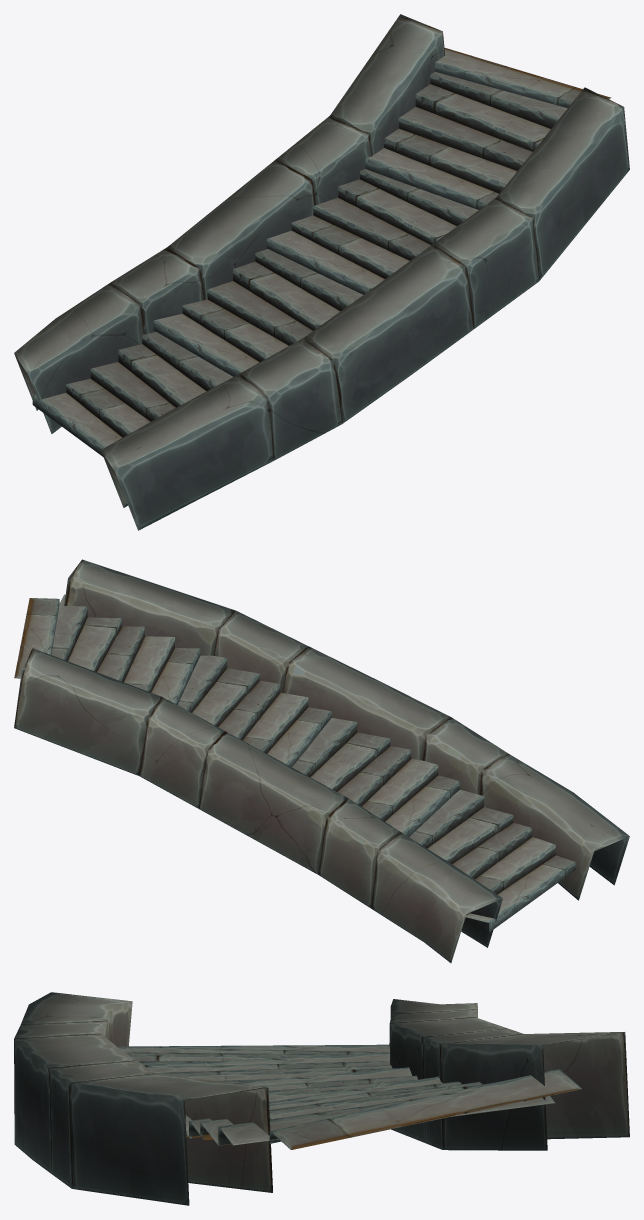
File: SM_Stair_Merged_01.glb
3 views of the same model, one above another, from view 1: azimuth 30°, elevation 25°; view 2: azimuth 150°, elevation 25°; view 3: azimuth 270°, elevation 25° (orthographic). The views are drawn at different scales.
Parts seen in each view (by area): view 1: SM_Stair_Merged_01; view 2: SM_Stair_Merged_01; view 3: SM_Stair_Merged_01.
Boxes of the visible parts, left/top/right/bottom form: SM_Stair_Merged_01: left=14, top=14, right=629, bottom=530; SM_Stair_Merged_01: left=14, top=559, right=629, bottom=963; SM_Stair_Merged_01: left=14, top=992, right=629, bottom=1205.
Bounding box in the file's own units: 13.99 × 6.19 × 8.52.
2 materials, 2 textured.
